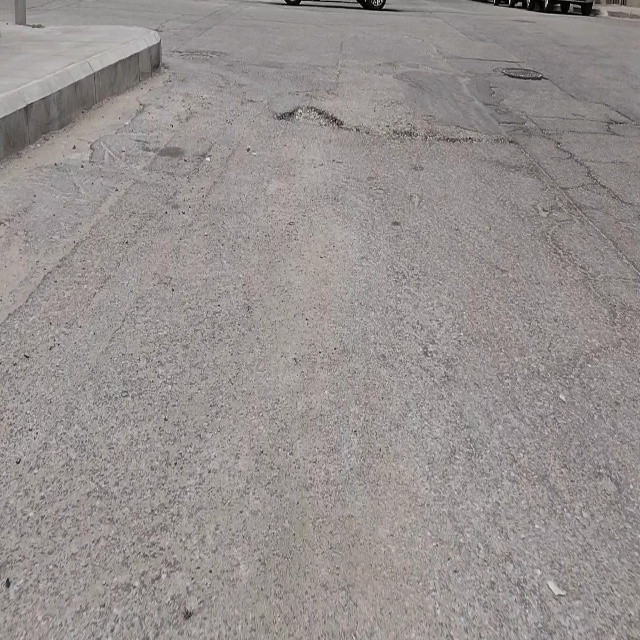pothole: (276, 102, 344, 131)
